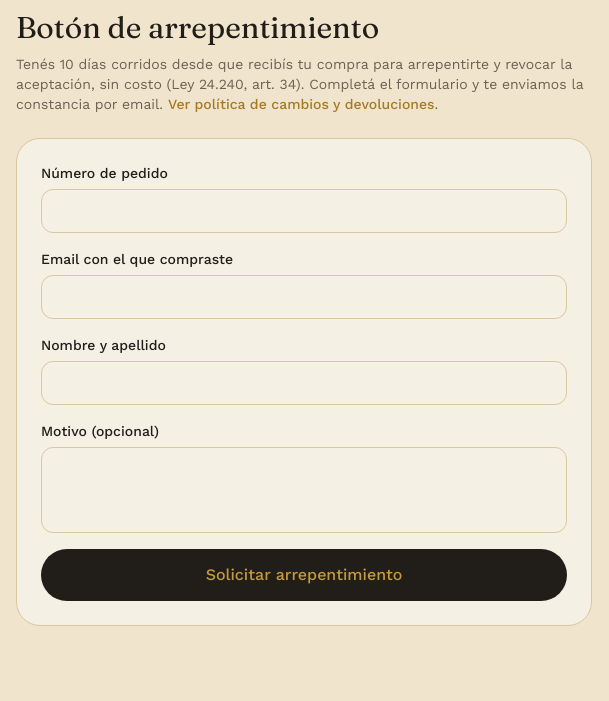
Arrepentimiento › muestra el error de la API
The width and height of the screenshot is (609, 701).
Type "12" into the number field labelled "Número de pedido".
click(304, 211); type("12")  # box x1=41 y1=189 x2=567 y2=233
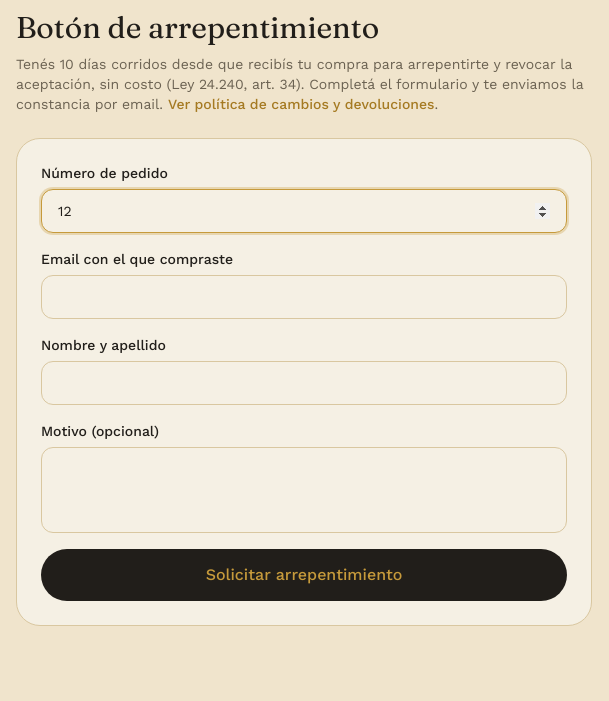
Type "cliente@example.com" into the field labelled "Email con el que compraste".
click(304, 297); type("cliente@example.com")  # box x1=41 y1=275 x2=567 y2=319
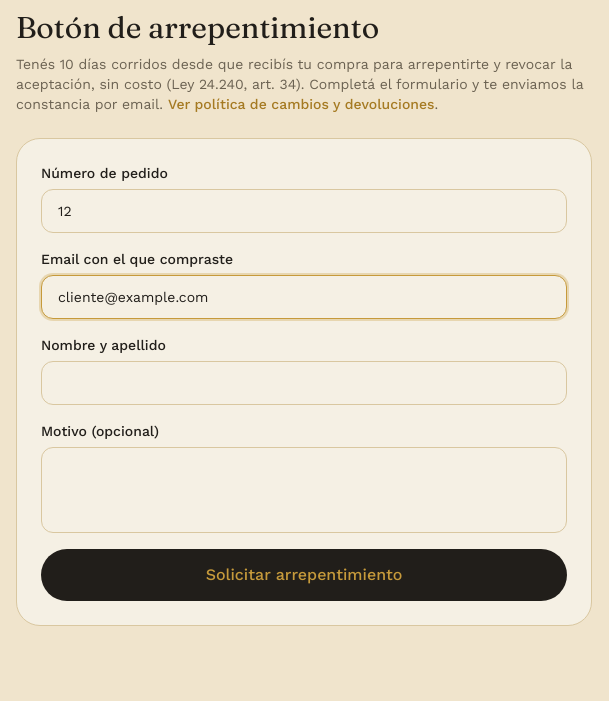
Type "Cliente Test" into the field labelled "Nombre y apellido".
click(304, 383); type("Cliente Test")  # box x1=41 y1=361 x2=567 y2=405
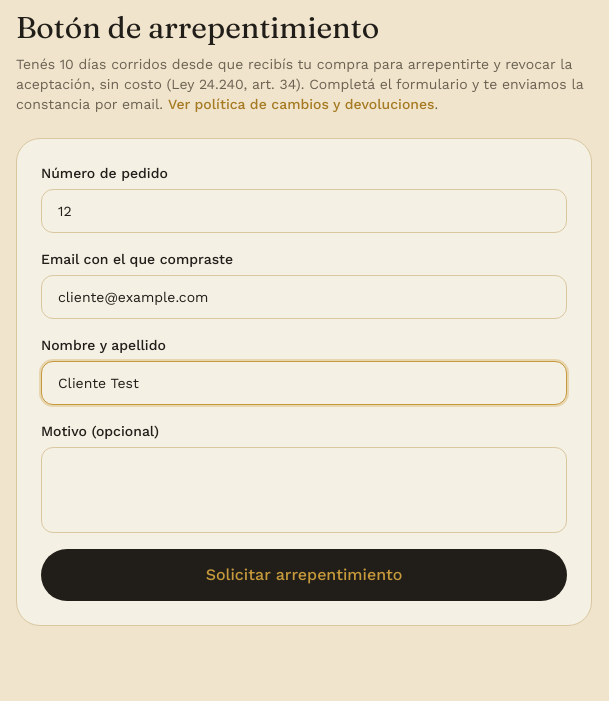
Click the button "Solicitar arrepentimiento".
click(304, 575)  # box x1=41 y1=549 x2=567 y2=601
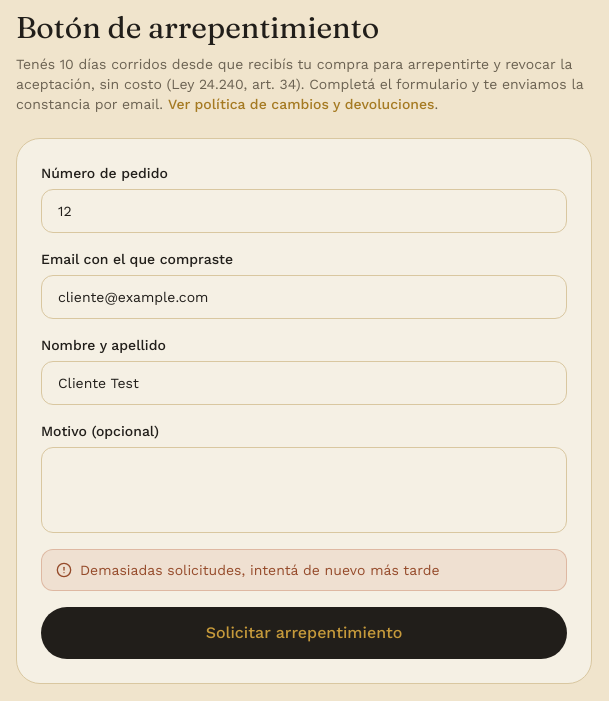
Check: the text "Demasiadas solicitudes, intentá de nuevo más tarde" is shown, box x1=80 y1=560 x2=440 y2=580
